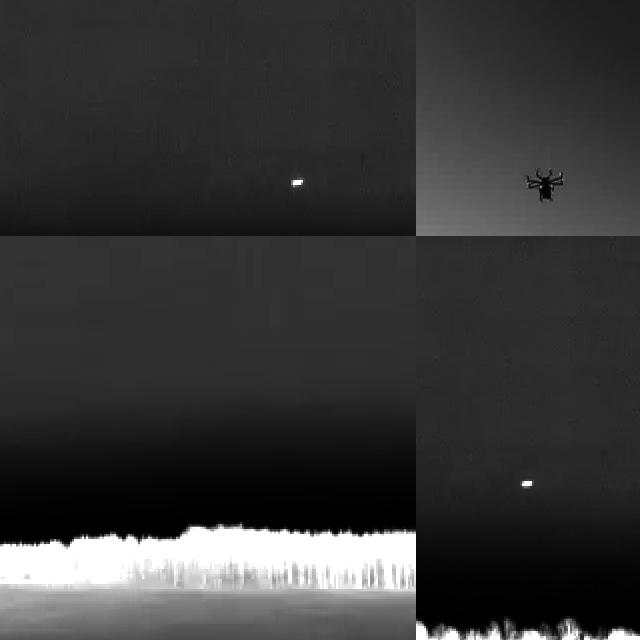1: (279, 174, 309, 194), (509, 475, 539, 495)
drone: (523, 164, 567, 212)
